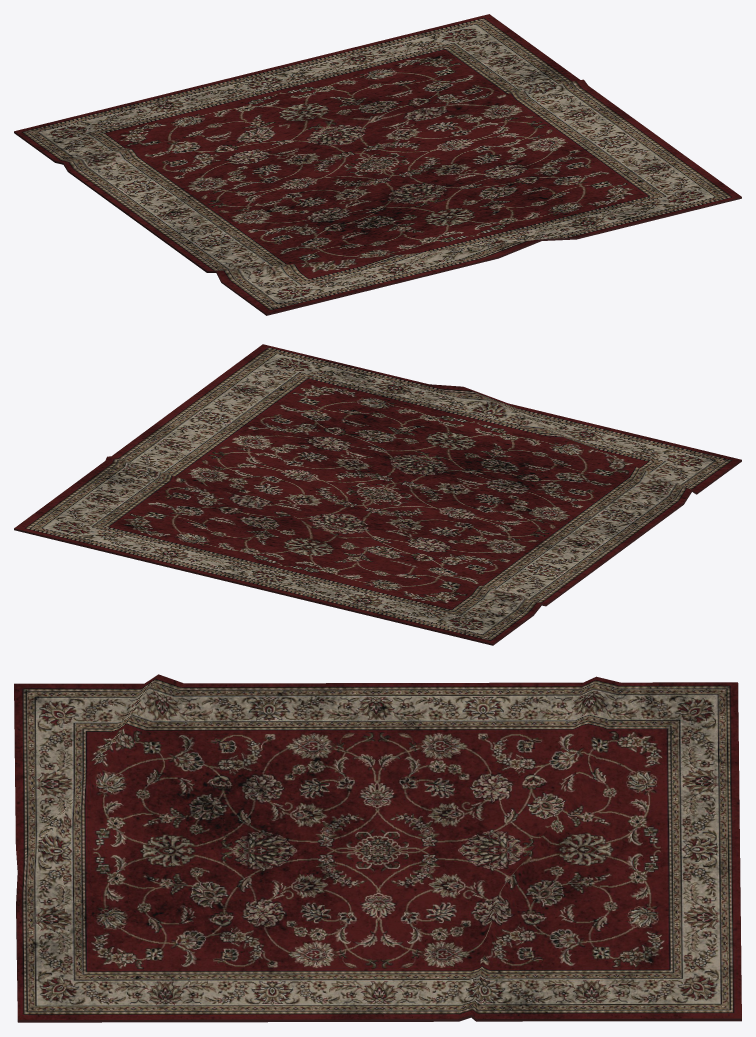
The model's file is Livingroom_Carpet.fbx.
3 views of the same model, one above another, from view 1: azimuth 30°, elevation 25°; view 2: azimuth 150°, elevation 25°; view 3: azimuth 270°, elevation 25° (orthographic). The views are drawn at different scales.
Parts seen in each view (by area): view 1: SM_Carpet_02; view 2: SM_Carpet_02; view 3: SM_Carpet_02.
Boxes of the visible parts, x1=… form: SM_Carpet_02: x1=14, y1=14, x2=741, y2=315; SM_Carpet_02: x1=14, y1=344, x2=741, y2=645; SM_Carpet_02: x1=14, y1=674, x2=741, y2=1022.
Bounding box in the file's own units: 323 × 294 × 5.28.
1 material, 1 textured.
